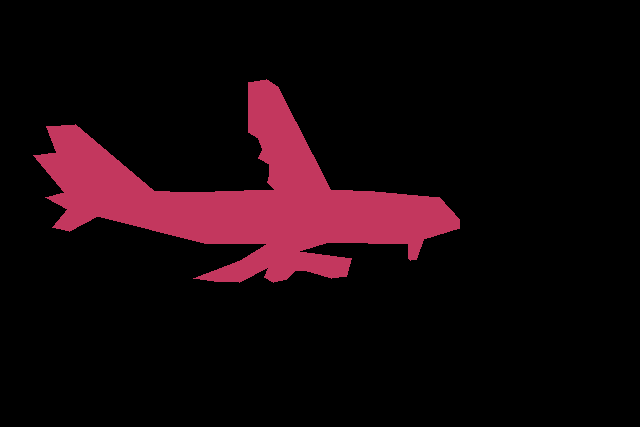Airplane: (33, 79, 460, 282)
